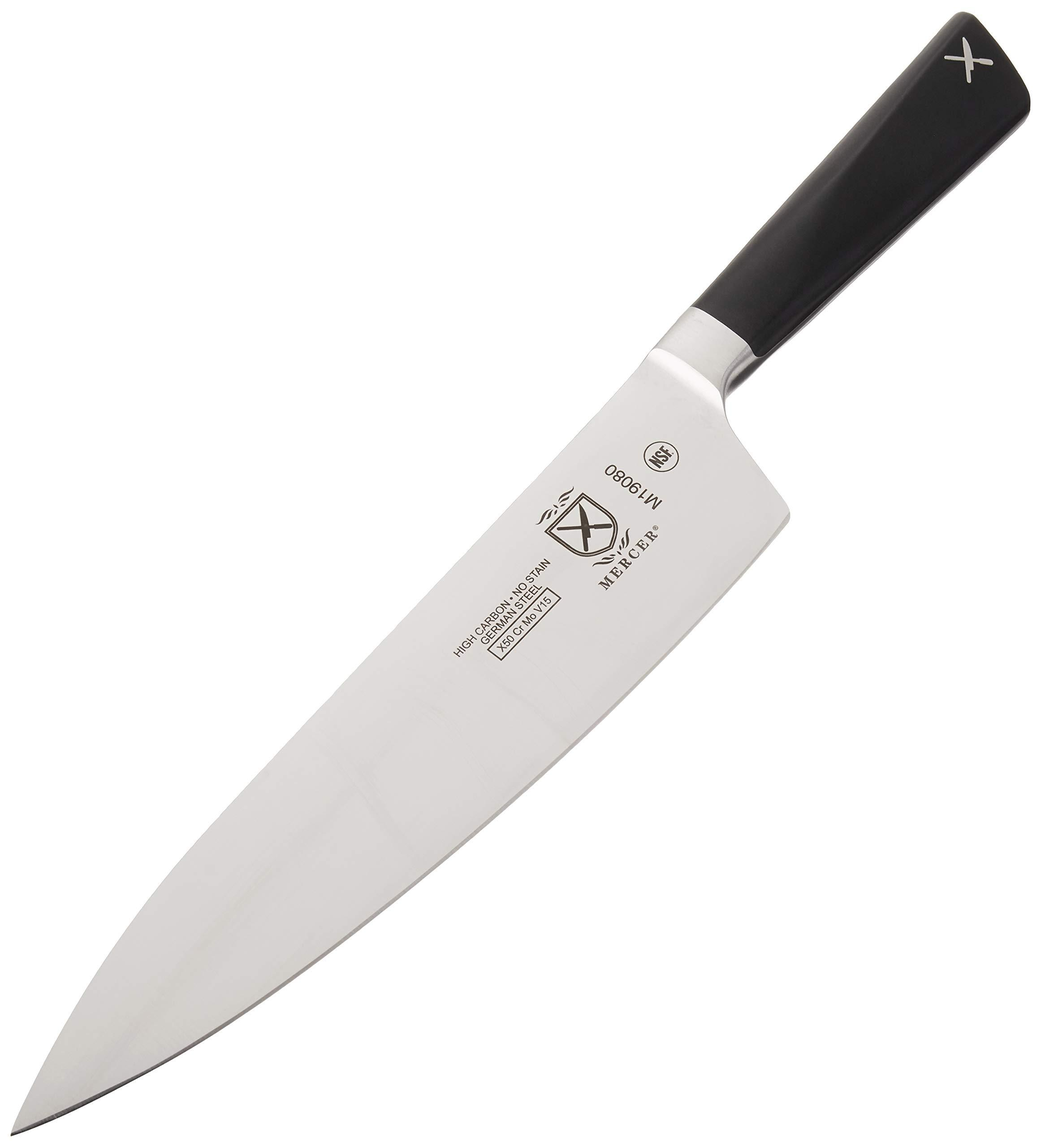Knife: (12, 13, 1037, 1142)
